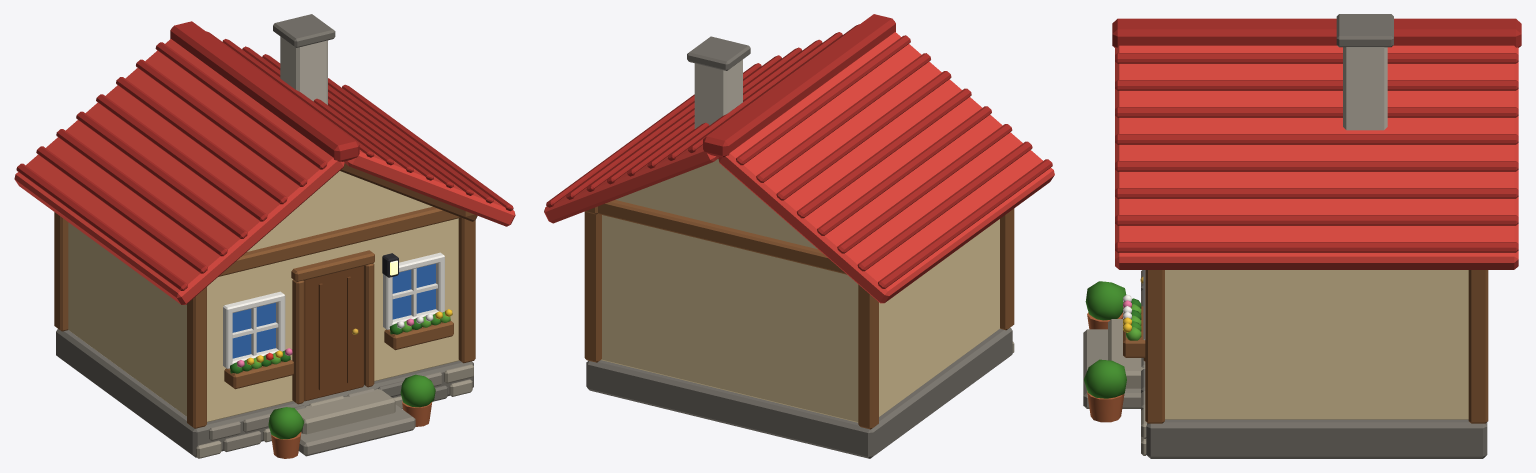
File: casa_vermelha.glb
3 renders of one model, left to right at view 1: azimuth 30°, elevation 25°; view 2: azimuth 150°, elevation 25°; view 3: azimuth 270°, elevation 25°, orthographic. The views are drawn at different scales.
Parts seen in each view (by area): view 1: casa_vermelha; view 2: casa_vermelha; view 3: casa_vermelha.
Part boxes in pixels (x1,y1,x2,y2): casa_vermelha: [14, 14, 515, 458]; casa_vermelha: [544, 14, 1054, 458]; casa_vermelha: [1083, 14, 1521, 458].
Bounding box in the file's own units: 5.3 × 4.76 × 4.88.
